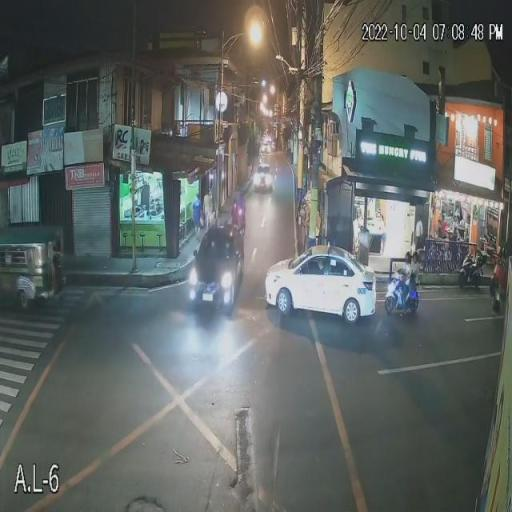helmet: (403, 250, 412, 264), (411, 250, 419, 263)
motorcycle: (382, 281, 420, 315)
rider: (400, 265, 412, 317), (410, 264, 420, 308)
